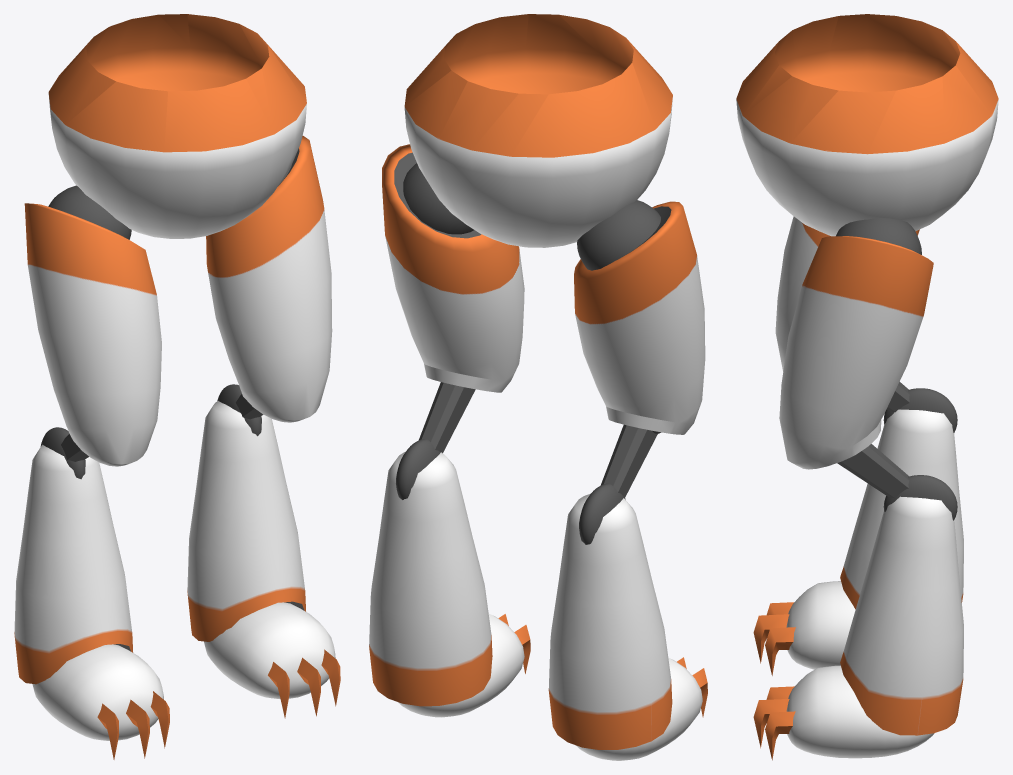
The model's file is robo.fbx.
3 views of the same model, side by side, from view 1: azimuth 30°, elevation 25°; view 2: azimuth 150°, elevation 25°; view 3: azimuth 270°, elevation 25° (orthographic). The views are drawn at different scales.
Visible parts, largest first — view 1: body, right_momo, left_momo, left_ashi, right_ashi, left_yubi, right_yubi, right_kannsetsu1, right_kannsetsu3, left_kannsetsu3, tsume_mannmaka, tsume_mannmaka1 (+4 smaller); view 2: body, left_ashi, right_ashi, right_momo, left_momo, right_kannsetsu1, left_yubi, right_yubi, right_sune, left_kannsetsu1, left_sune, right_kannsetsu3 (+1 smaller); view 3: body, left_momo, left_ashi, right_ashi, left_yubi, right_yubi, right_momo, left_sune, left_kannsetsu1, left_kannsetsu3, right_kannsetsu3, tsume_hidari1 (+3 smaller).
Boxes of the visible parts, x1,y1,x2,y2 form: body: (48,14,306,238); right_momo: (24,203,161,466); left_momo: (206,136,332,422); left_ashi: (187,401,305,641); right_ashi: (14,444,133,684); left_yubi: (204,602,335,699); right_yubi: (32,644,163,740); right_kannsetsu1: (48,185,131,239); right_kannsetsu3: (40,427,85,479); left_kannsetsu3: (217,384,261,436); tsume_mannmaka: (297,657,320,716); tsume_mannmaka1: (126,699,149,758); body: (404,14,672,247); left_ashi: (369,452,492,706); right_ashi: (548,493,672,749); right_momo: (574,201,705,434); left_momo: (382,144,524,392); right_kannsetsu1: (577,200,660,270); left_yubi: (398,614,524,717); right_yubi: (576,658,702,760); right_sune: (600,424,657,497); left_kannsetsu1: (403,163,473,234); left_sune: (419,382,475,453); right_kannsetsu3: (579,483,625,544); body: (736,14,998,236); left_momo: (779,236,933,469); left_ashi: (840,496,963,735); right_ashi: (840,409,963,609); left_yubi: (786,665,934,758); right_yubi: (786,581,855,669); right_momo: (775,216,919,371); left_sune: (837,444,909,498); left_kannsetsu1: (836,218,921,254); left_kannsetsu3: (883,475,957,520); right_kannsetsu3: (883,388,957,432); tsume_hidari1: (765,627,795,675).
Size of the model in its own units: 0.6787 by 1.49 by 0.5383.
1 material, 1 textured.
